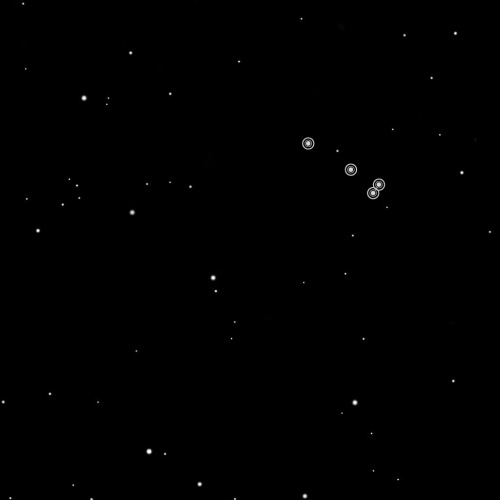sagitta: (297, 129, 389, 205)
